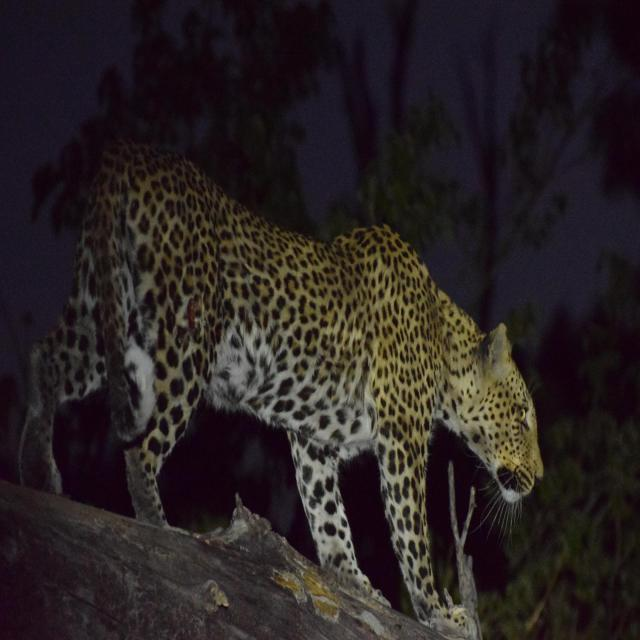Leopard: (38, 157, 534, 619)
